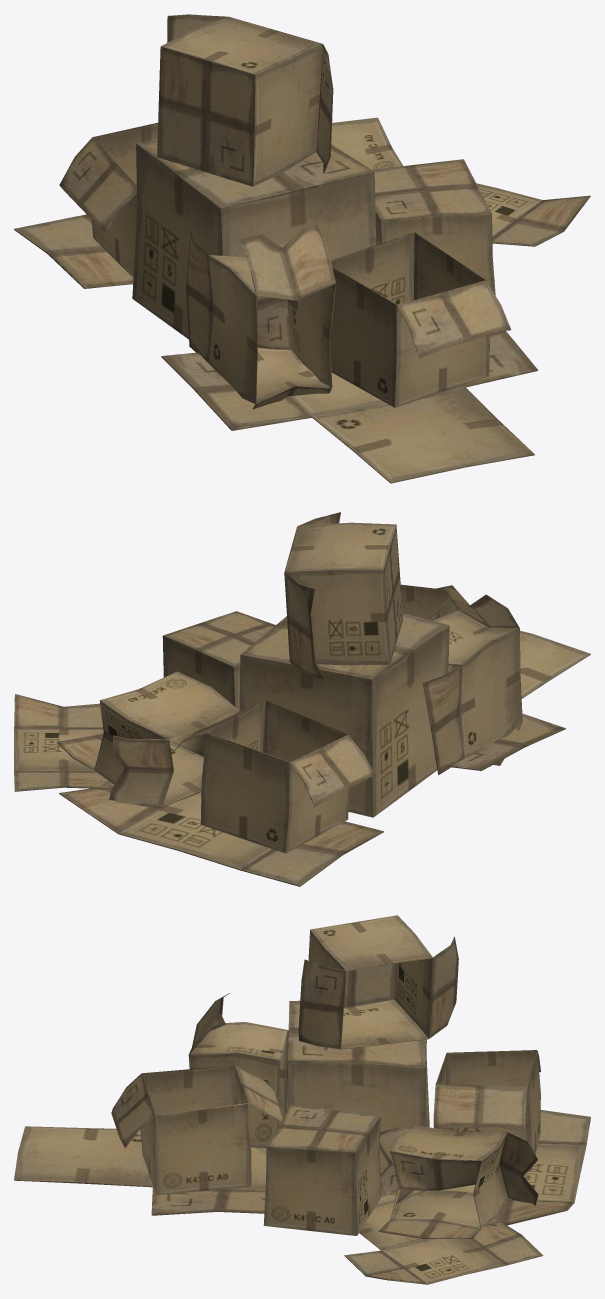
File: cardboard_boxes.glb
3 renders of one model, top to bottom at view 1: azimuth 30°, elevation 25°; view 2: azimuth 150°, elevation 25°; view 3: azimuth 270°, elevation 25°, orthographic. The views are drawn at different scales.
Visible parts, largest first — view 1: cardboard_box_pile_a_LOD0; view 2: cardboard_box_pile_a_LOD0; view 3: cardboard_box_pile_a_LOD0.
Boxes of the visible parts, <box> form: cardboard_box_pile_a_LOD0: <box>14,14,590,483</box>; cardboard_box_pile_a_LOD0: <box>14,512,590,886</box>; cardboard_box_pile_a_LOD0: <box>14,915,590,1284</box>.
Size of what is drawn, in the model's own units: 2.31 by 1.34 by 2.92.
1 material, 1 textured.
